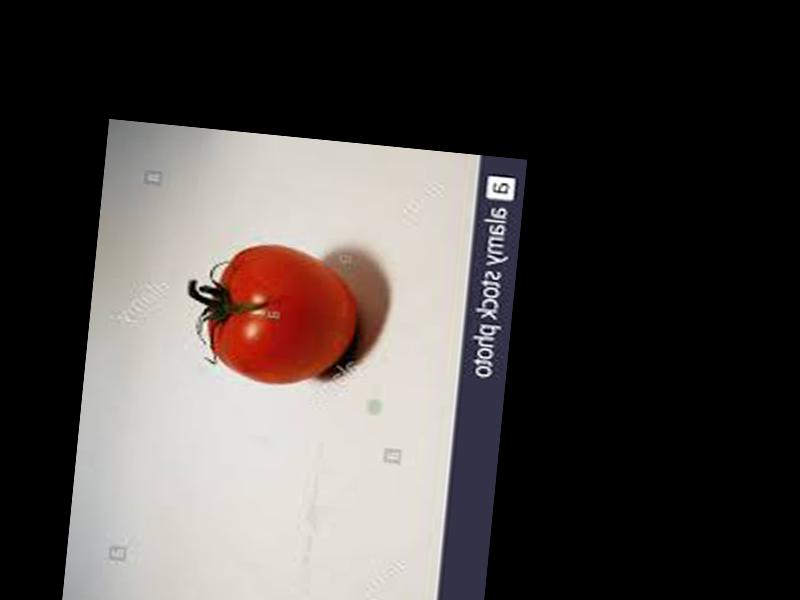Tomato: (205, 241, 364, 391)
